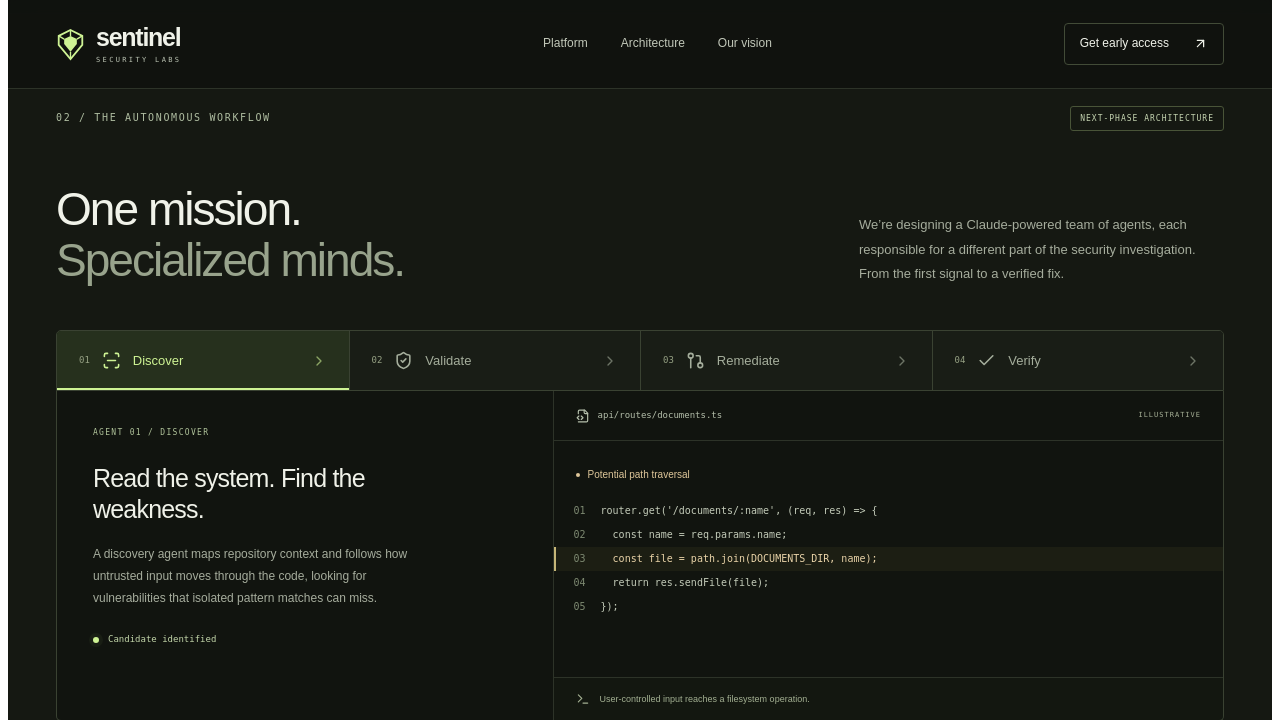
Test: Sentinel interactions › changes the investigation when a workflow stage is selected
This screenshot has width=1280, height=720.
(page scrolled)
Click the tab "03 Remediate". click: (748, 360)
box: [640,331,932,390]
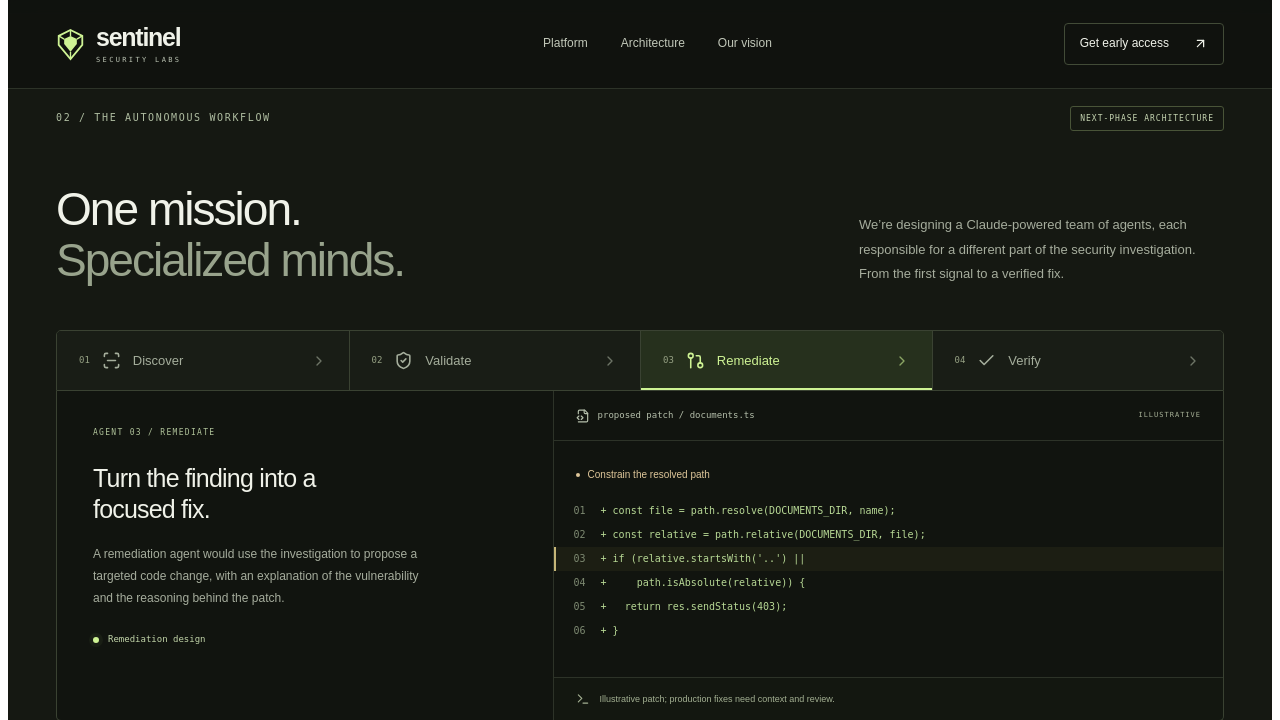
Result: the heading "Turn the finding into a focused fix." is shown at [93,464,316,524]
Result: the text "Illustrative patch; production fixes need context and review." is shown at [600,693,835,706]
